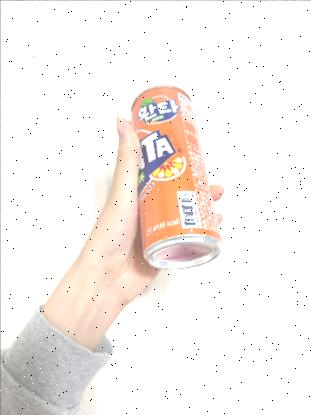Can: (127, 81, 229, 275)
